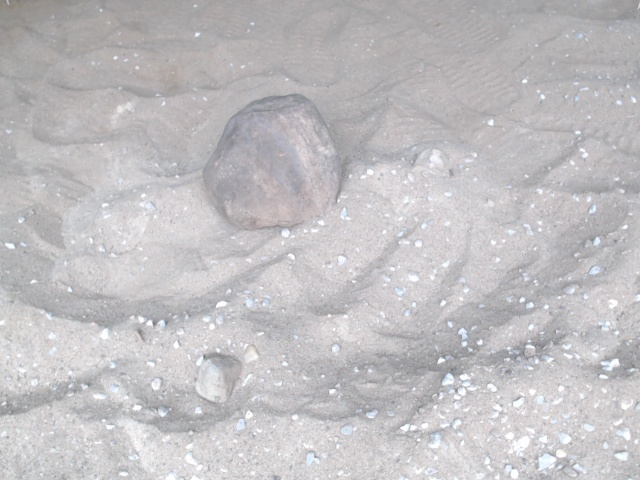rock: (198, 89, 346, 237), (191, 350, 246, 409), (408, 144, 459, 182)
